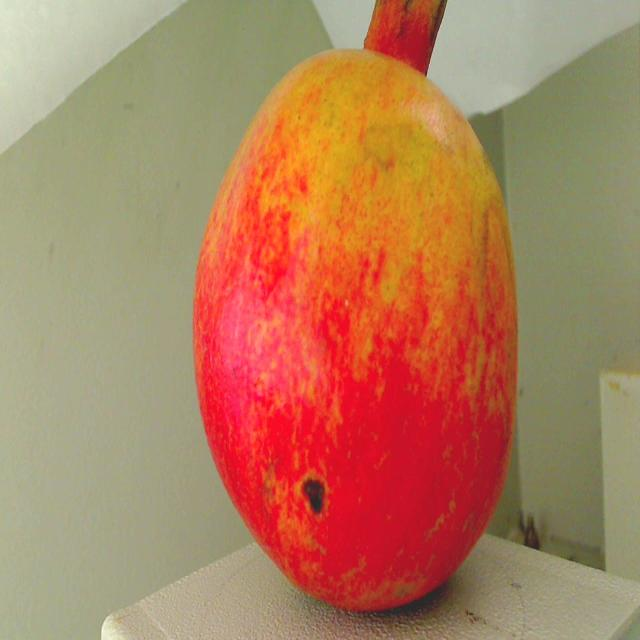pomegranate: (184, 0, 526, 640)
